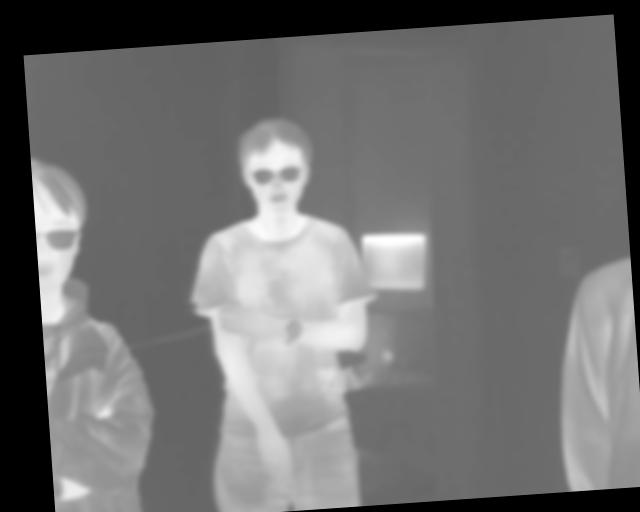face: (234, 114, 317, 217)
